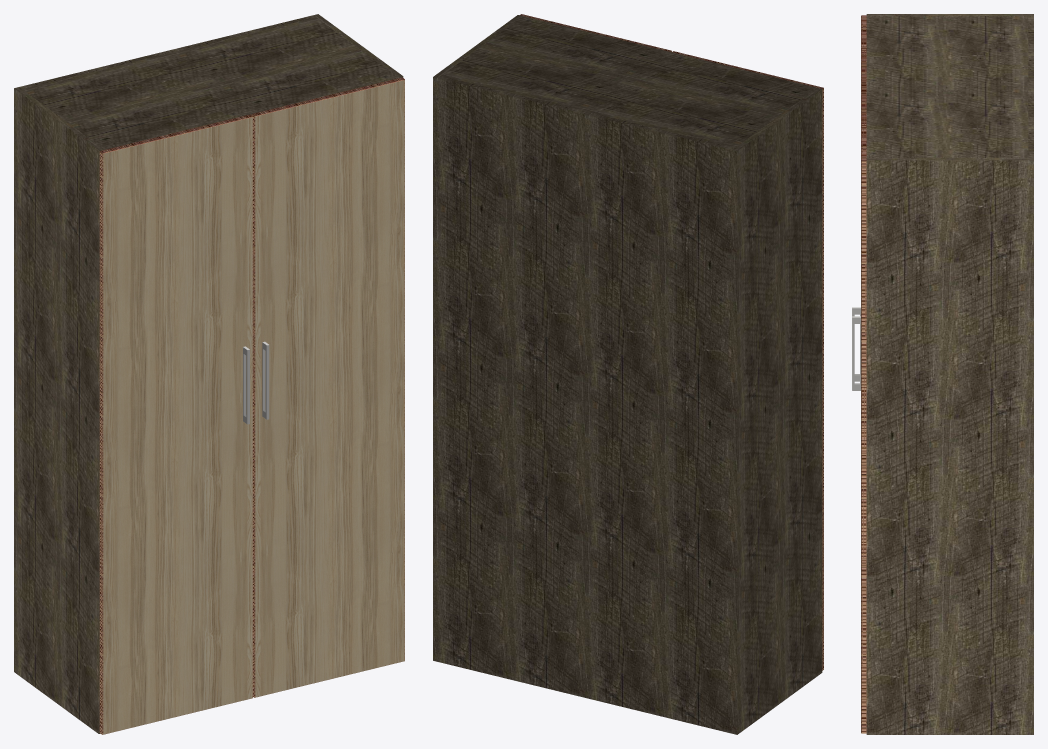
The model's file is Fussion_Chrome_800_2_cajones.glb.
3 views of the same model, side by side, from view 1: azimuth 30°, elevation 25°; view 2: azimuth 150°, elevation 25°; view 3: azimuth 270°, elevation 25° (orthographic).
Visible parts, largest first — view 1: Columna; view 2: Columna; view 3: Columna.
Boxes of the visible parts, x1,y1,x2,y2 form: Columna: [14, 14, 404, 734]; Columna: [433, 14, 823, 734]; Columna: [852, 14, 1033, 734].
Bounding box in the file's own units: 1.2 × 2.2 × 0.6311.
4 materials, 3 textured.
